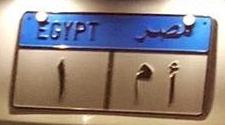1: (54, 57, 73, 102)
alif: (164, 59, 182, 109)
meem: (131, 59, 153, 108)
